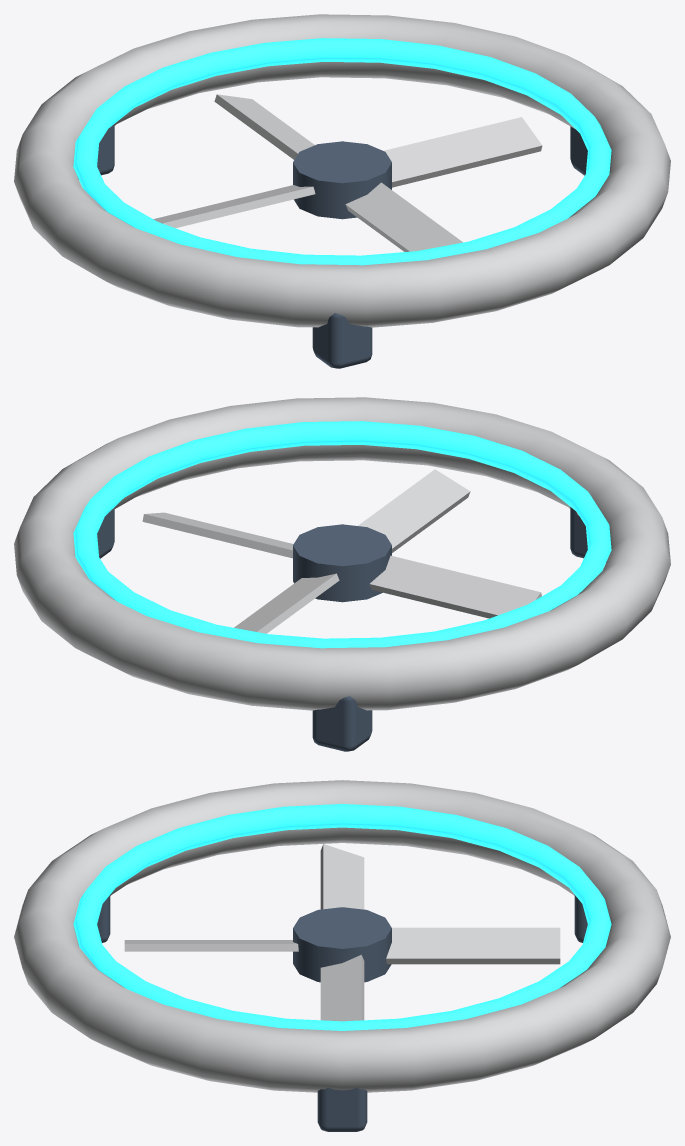
Rendered from PROP_WindRing.glb.
3 views of the same model, one above another, from view 1: azimuth 30°, elevation 25°; view 2: azimuth 150°, elevation 25°; view 3: azimuth 270°, elevation 25° (orthographic).
Visible parts, largest first — view 1: Ring, Glow, Blade_0, Hub, Blade_3, Leg_2, Blade_1, Blade_2, Leg_1, Leg_0; view 2: Ring, Glow, Hub, Blade_2, Blade_3, Leg_1, Blade_1, Blade_0, Leg_2, Leg_0; view 3: Ring, Glow, Blade_1, Hub, Blade_0, Blade_2, Leg_0, Blade_3.
Part boxes in pixels (x1,y1,x2,y2): Ring: [14, 14, 670, 327]; Glow: [73, 38, 611, 265]; Blade_0: [383, 117, 542, 187]; Hub: [293, 141, 391, 219]; Blade_3: [345, 182, 462, 251]; Leg_2: [312, 313, 372, 368]; Blade_1: [214, 94, 314, 159]; Blade_2: [153, 185, 315, 228]; Leg_1: [78, 124, 114, 179]; Leg_0: [570, 126, 587, 175]; Ring: [14, 397, 670, 710]; Glow: [73, 421, 611, 648]; Hub: [293, 524, 391, 602]; Blade_2: [369, 555, 541, 618]; Blade_3: [358, 469, 470, 552]; Leg_1: [312, 696, 372, 751]; Blade_1: [234, 573, 339, 633]; Blade_0: [142, 512, 293, 558]; Leg_2: [570, 507, 606, 562]; Leg_0: [97, 509, 114, 558]; Ring: [14, 780, 670, 1092]; Glow: [73, 804, 611, 1030]; Blade_1: [386, 927, 560, 964]; Hub: [293, 907, 391, 982]; Blade_0: [320, 954, 364, 1021]; Blade_2: [320, 844, 364, 909]; Leg_0: [317, 1087, 367, 1131]; Blade_3: [124, 940, 298, 951].
Bounding box in the file's own units: 3.32 × 0.5022 × 3.32.
